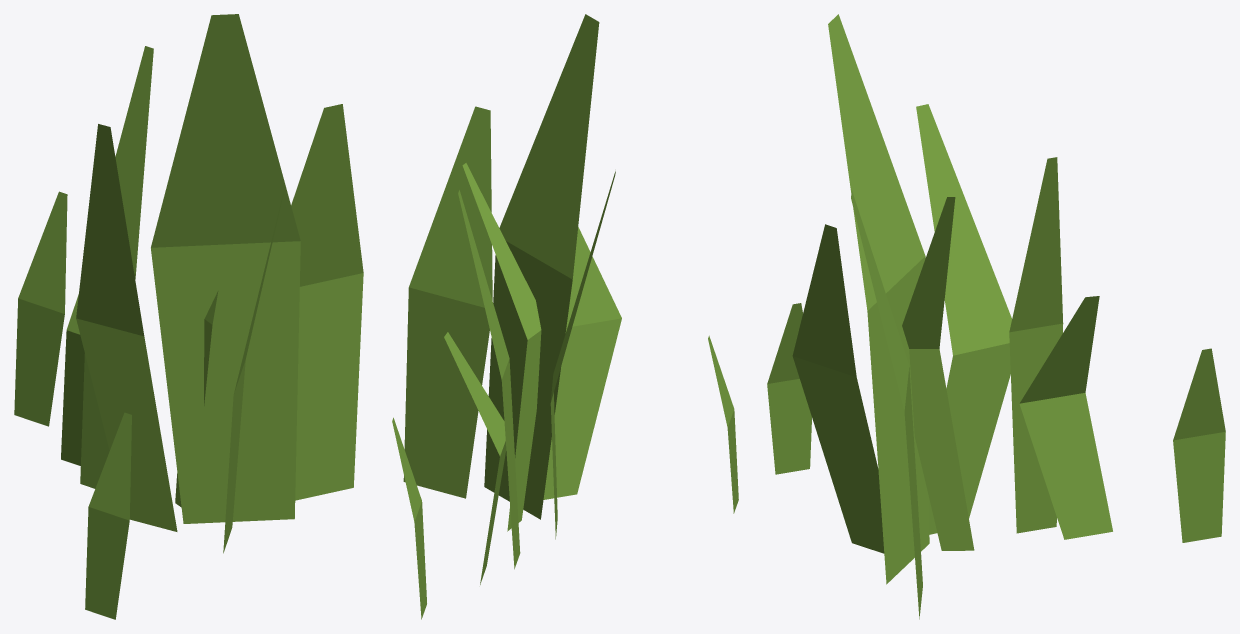
The model's file is grass.glb.
3 views of the same model, side by side, from view 1: azimuth 30°, elevation 25°; view 2: azimuth 150°, elevation 25°; view 3: azimuth 270°, elevation 25° (orthographic). The views are drawn at different scales.
Parts seen in each view (by area): view 1: Grass; view 2: Grass; view 3: Grass.
Boxes of the visible parts, x1,y1,x2,y2 form: Grass: [14, 14, 363, 619]; Grass: [392, 14, 738, 619]; Grass: [767, 14, 1225, 619].
Bounding box in the file's own units: 0.3421 × 0.5466 × 0.4366.
